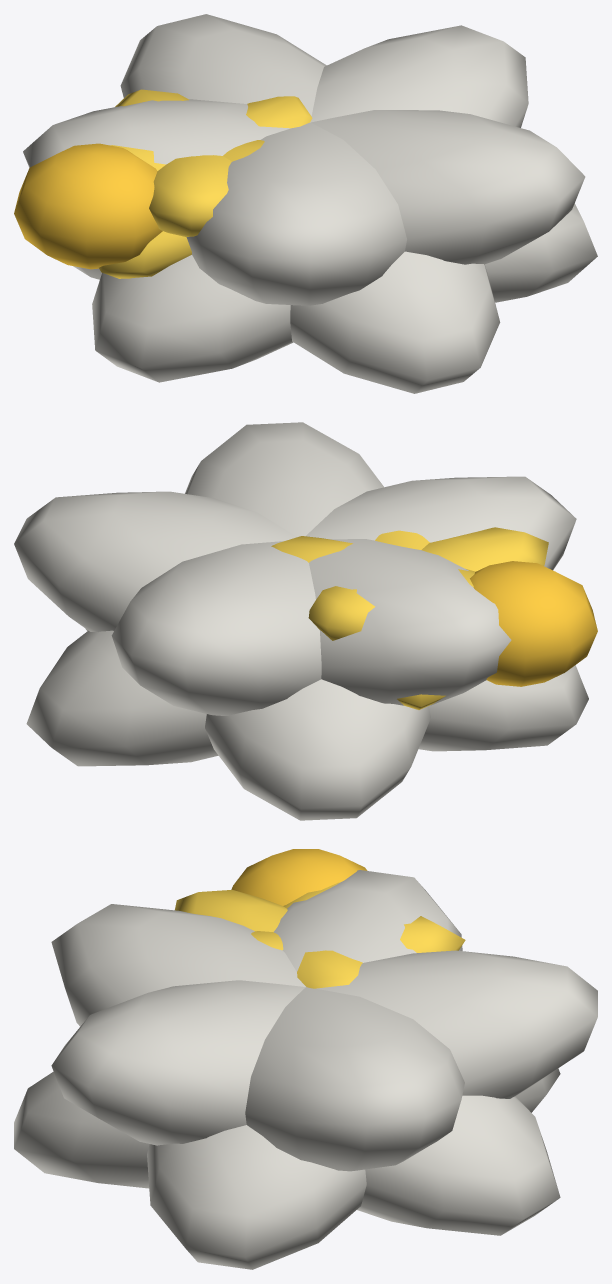
The model's file is plumeria.glb.
3 renders of one model, top to bottom at view 1: azimuth 30°, elevation 25°; view 2: azimuth 150°, elevation 25°; view 3: azimuth 270°, elevation 25°, orthographic.
Visible parts, largest first — view 1: plumeria; view 2: plumeria; view 3: plumeria.
Boxes of the visible parts, x1,y1,x2,y2 form: plumeria: [14, 14, 597, 393]; plumeria: [14, 422, 597, 820]; plumeria: [14, 849, 597, 1269].
Size of the model in its own units: 0.6628 by 0.2439 by 0.6243.
